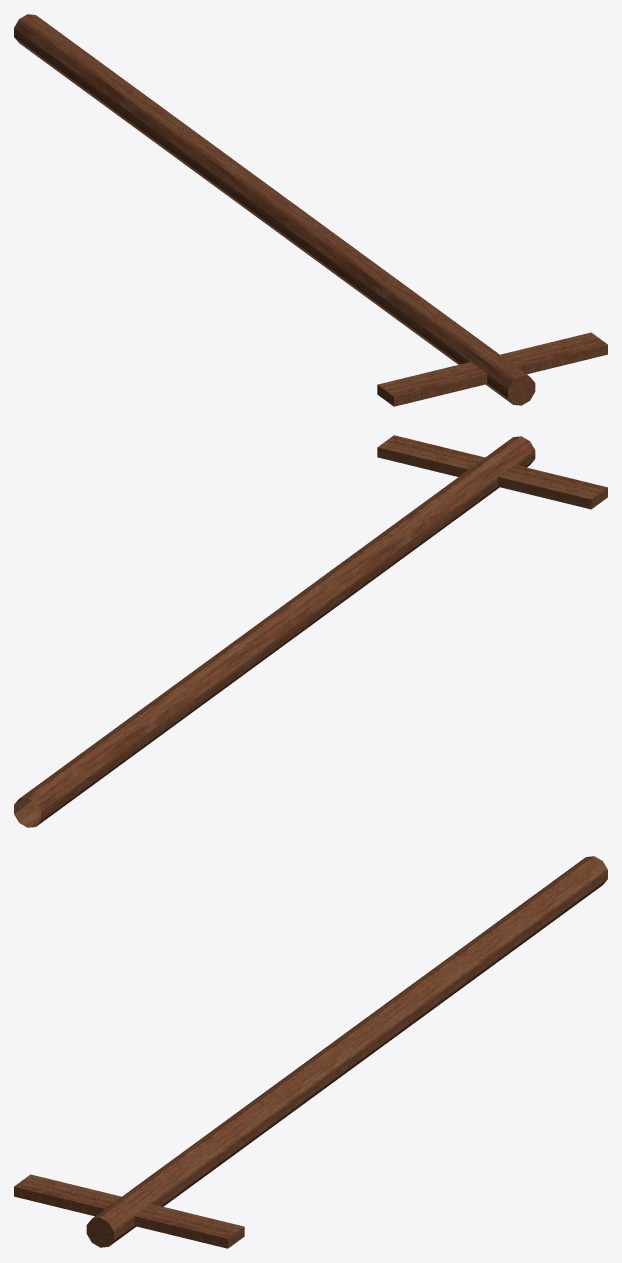
The model's file is pylon_small.obj.
The picture shows the model from 3 angles, top to bottom: view 1: azimuth 30°, elevation 25°; view 2: azimuth 150°, elevation 25°; view 3: azimuth 330°, elevation 25°; orthographic projection.
Visible parts, largest first — view 1: Pylon_small_50kV; view 2: Pylon_small_50kV; view 3: Pylon_small_50kV.
Part boxes in pixels (bbox=[...]): Pylon_small_50kV: bbox=[14, 14, 607, 406]; Pylon_small_50kV: bbox=[14, 435, 607, 827]; Pylon_small_50kV: bbox=[14, 856, 607, 1248].
Bounding box in the file's own units: 1.5 × 0.2 × 6.
